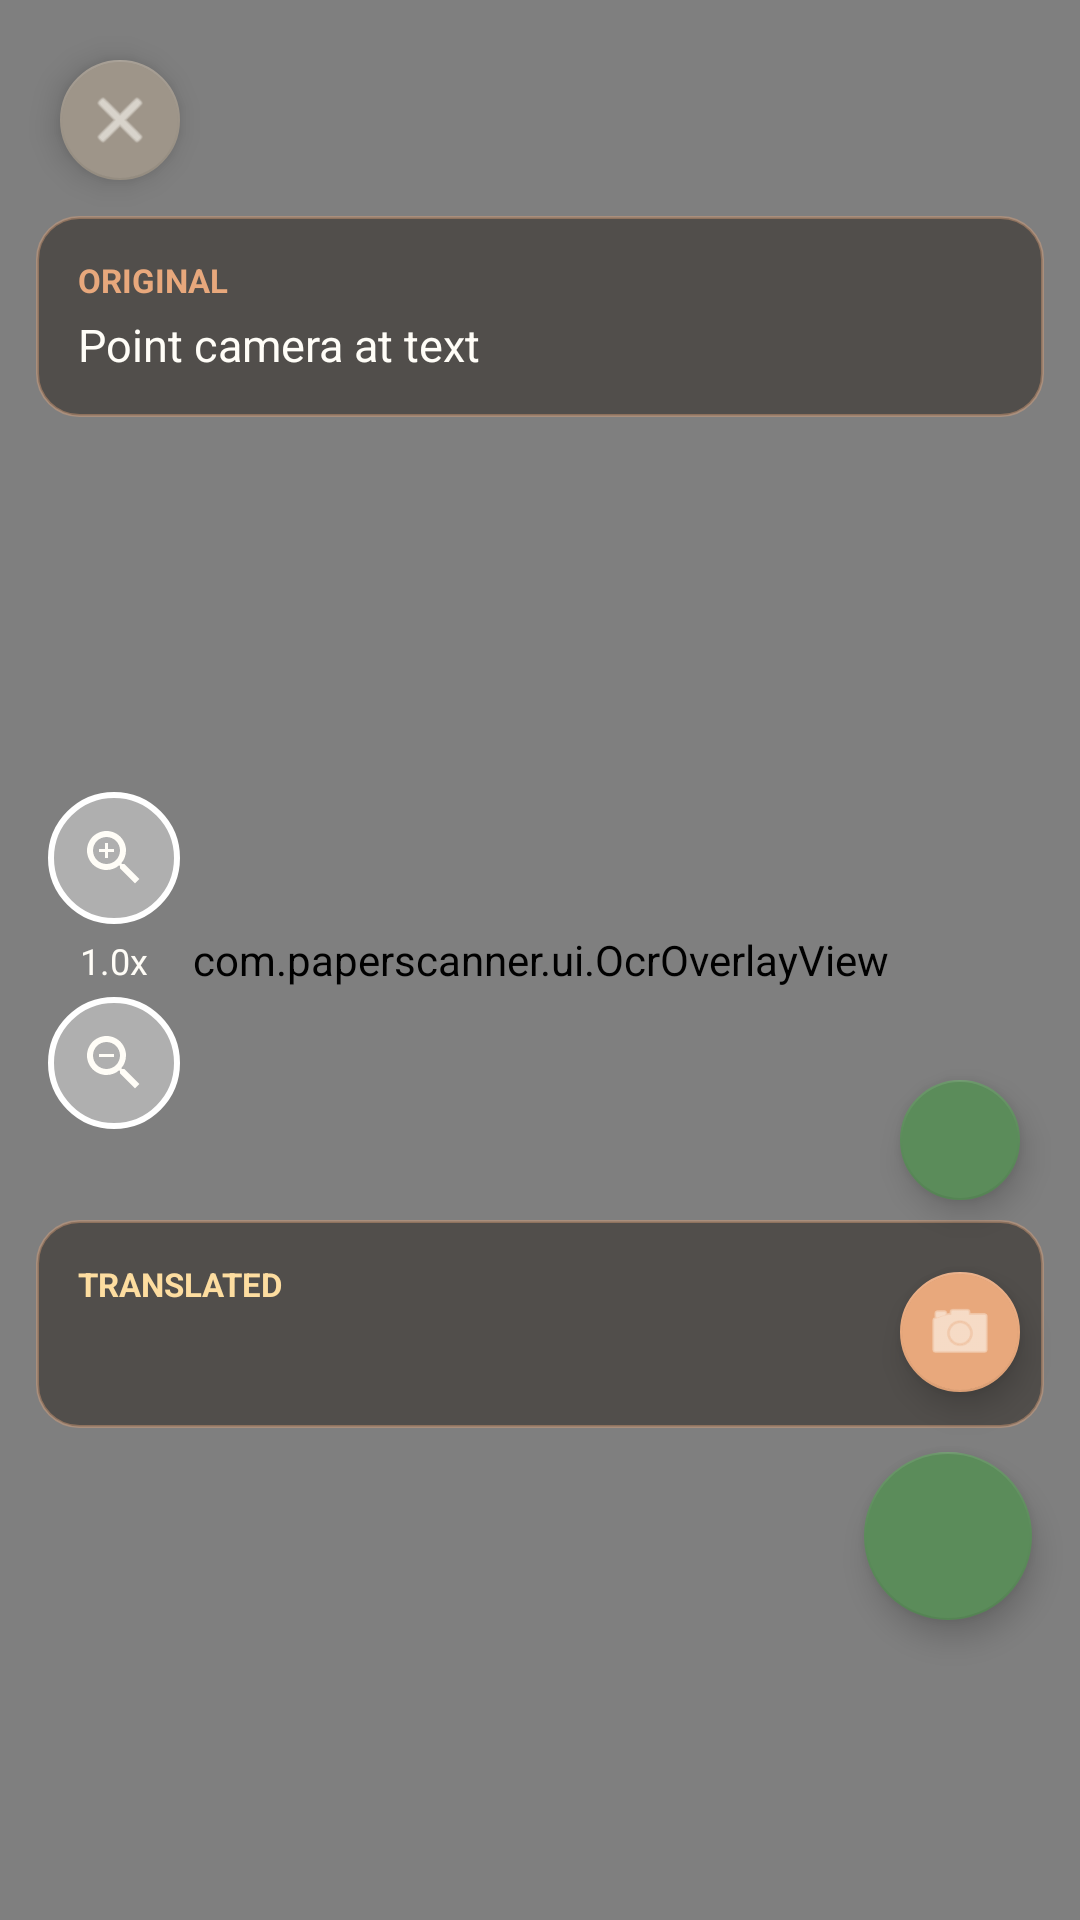

Where icons sit on this 1080w x 1920h app screen, as rect(x1, y1, x2, y2):
Capture: rect(900, 1272, 1020, 1392)
Close: rect(60, 60, 180, 180)
Zoom In: rect(48, 792, 180, 924)
Zoom Out: rect(48, 997, 180, 1129)
